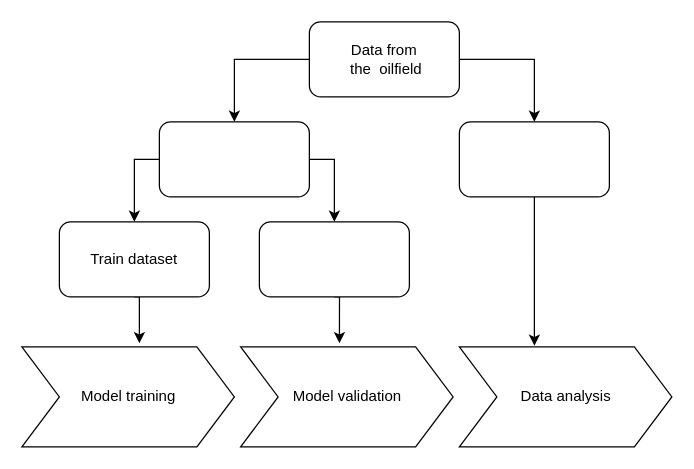
Some shapes in this 694 by 469 pixel diagram are drawn without their labels. The shapes that lost their labels are listed below. From the top down, each one's centre as x and y in pixels, then its label:
(x=233, y=159): Labeled data: 1094 records
(x=533, y=159): Unlabeled data: 1191 records
(x=333, y=259): Test dataset
